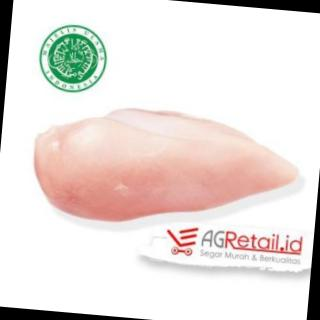Ayam: (31, 99, 304, 239)
